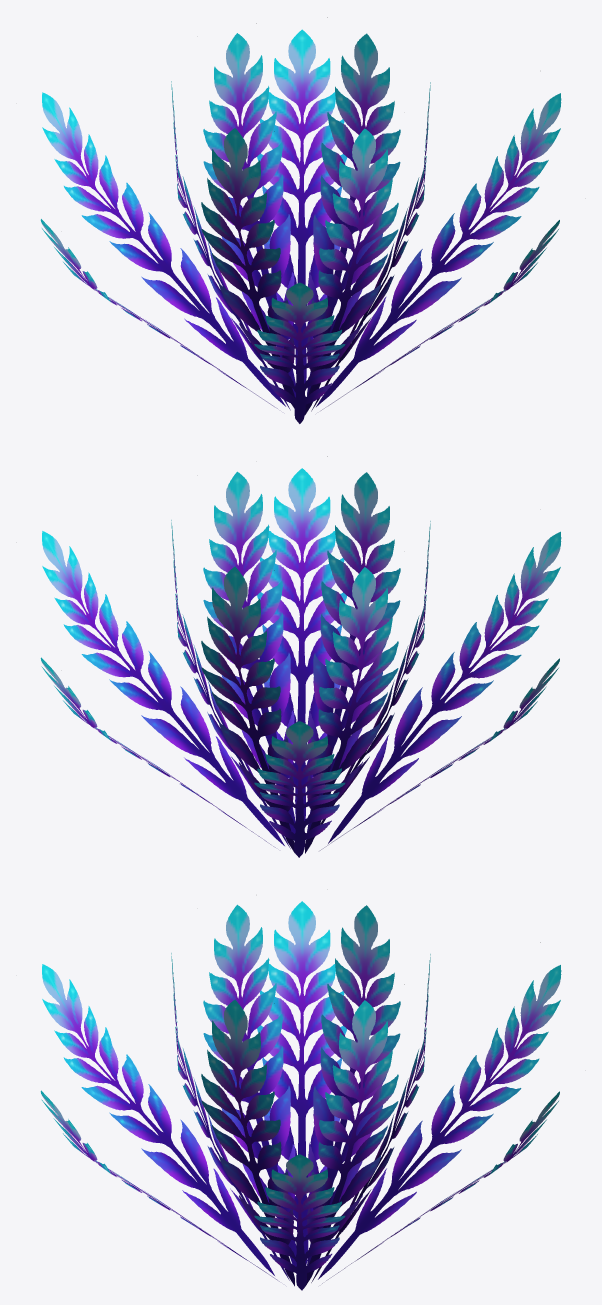
Rendered from Blue_Bush_02b.FBX.
The picture shows the model from 3 angles, top to bottom: view 1: azimuth 30°, elevation 25°; view 2: azimuth 150°, elevation 25°; view 3: azimuth 270°, elevation 25°; orthographic projection.
Visible parts, largest first — view 1: Blue_Bush_02b; view 2: Blue_Bush_02b; view 3: Blue_Bush_02b.
Boxes of the visible parts, x1,y1,x2,y2 form: Blue_Bush_02b: [40, 17, 561, 423]; Blue_Bush_02b: [40, 456, 561, 857]; Blue_Bush_02b: [40, 901, 561, 1290].
Bounding box in the file's own units: 228 × 140 × 215.
